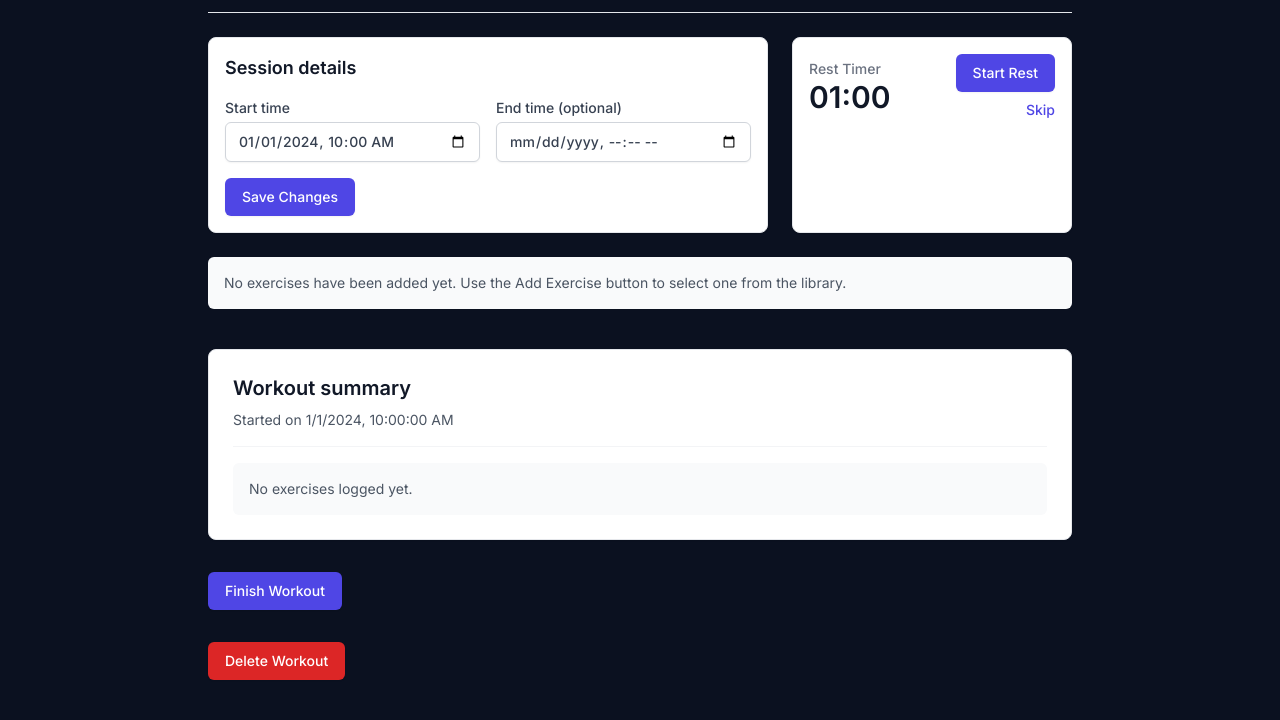
Scenario: WorkoutSessionPage › opens the delete modal and deletes the workout
(page scrolled)
Click the button "Delete Workout": (277, 661) [208,642,345,680]
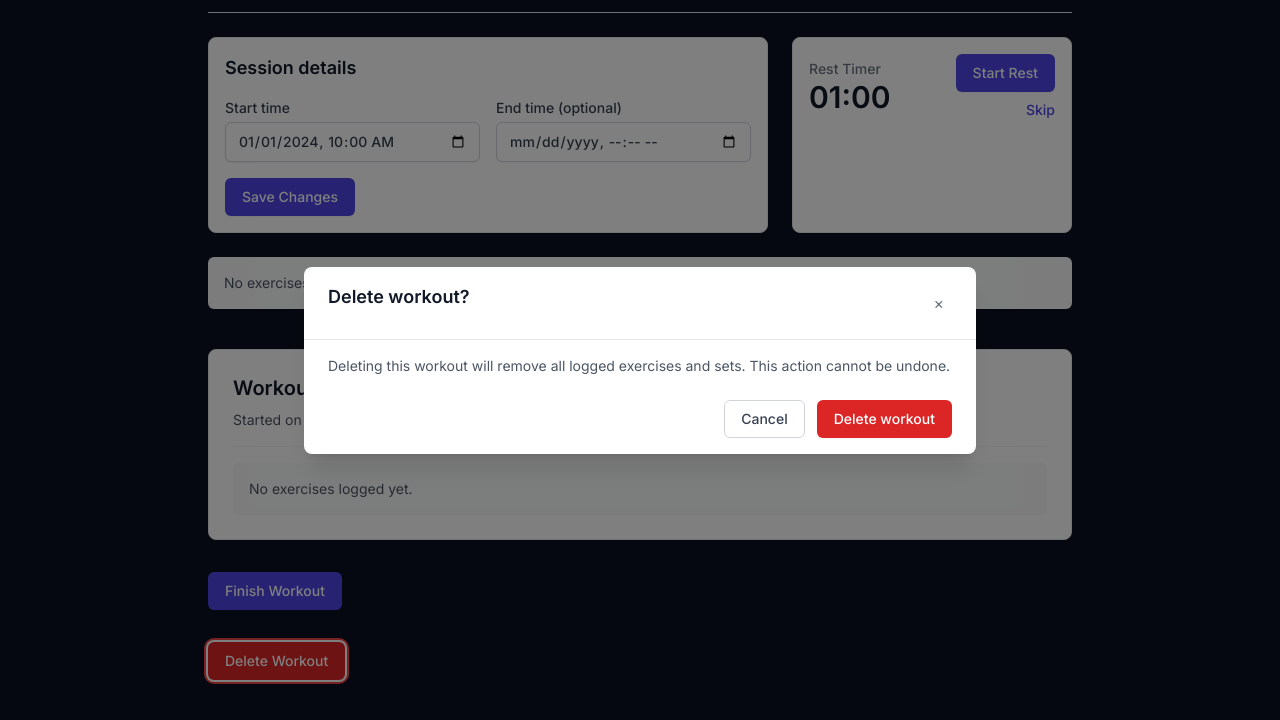
Click the button "Delete workout": (884, 418) [817,400,952,438]
(page scrolled)
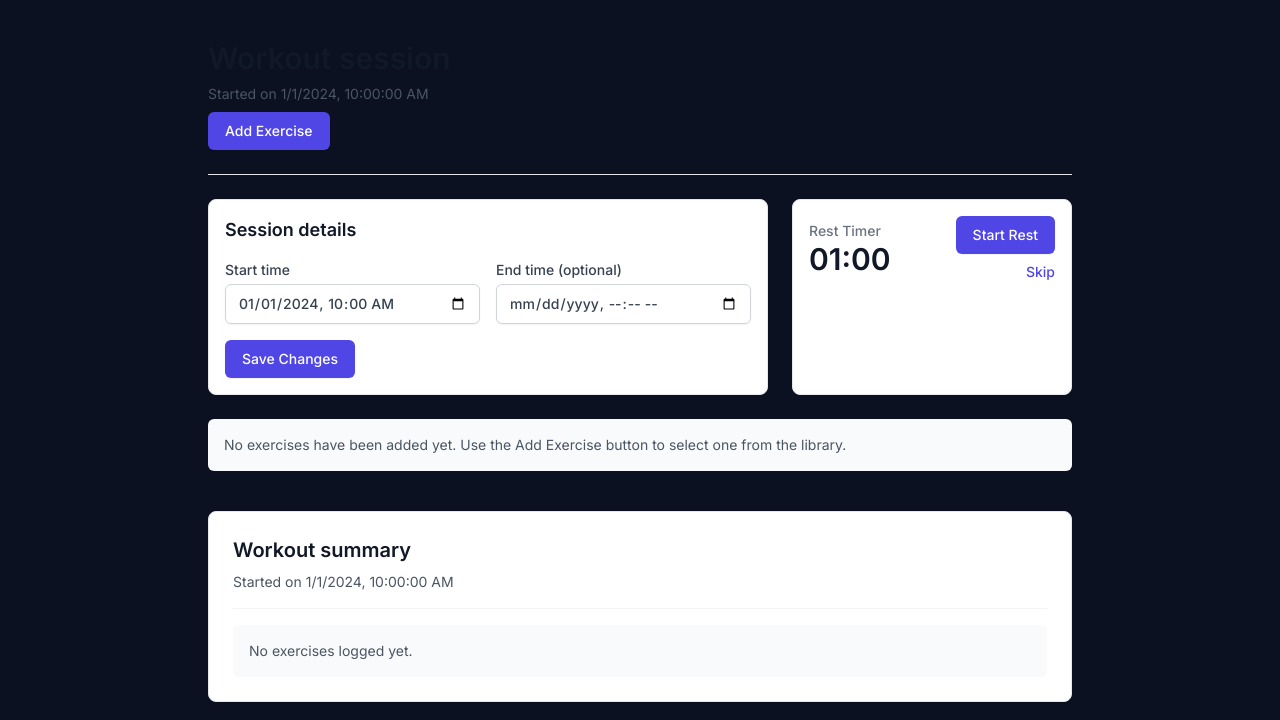
Now the dialog is gone
